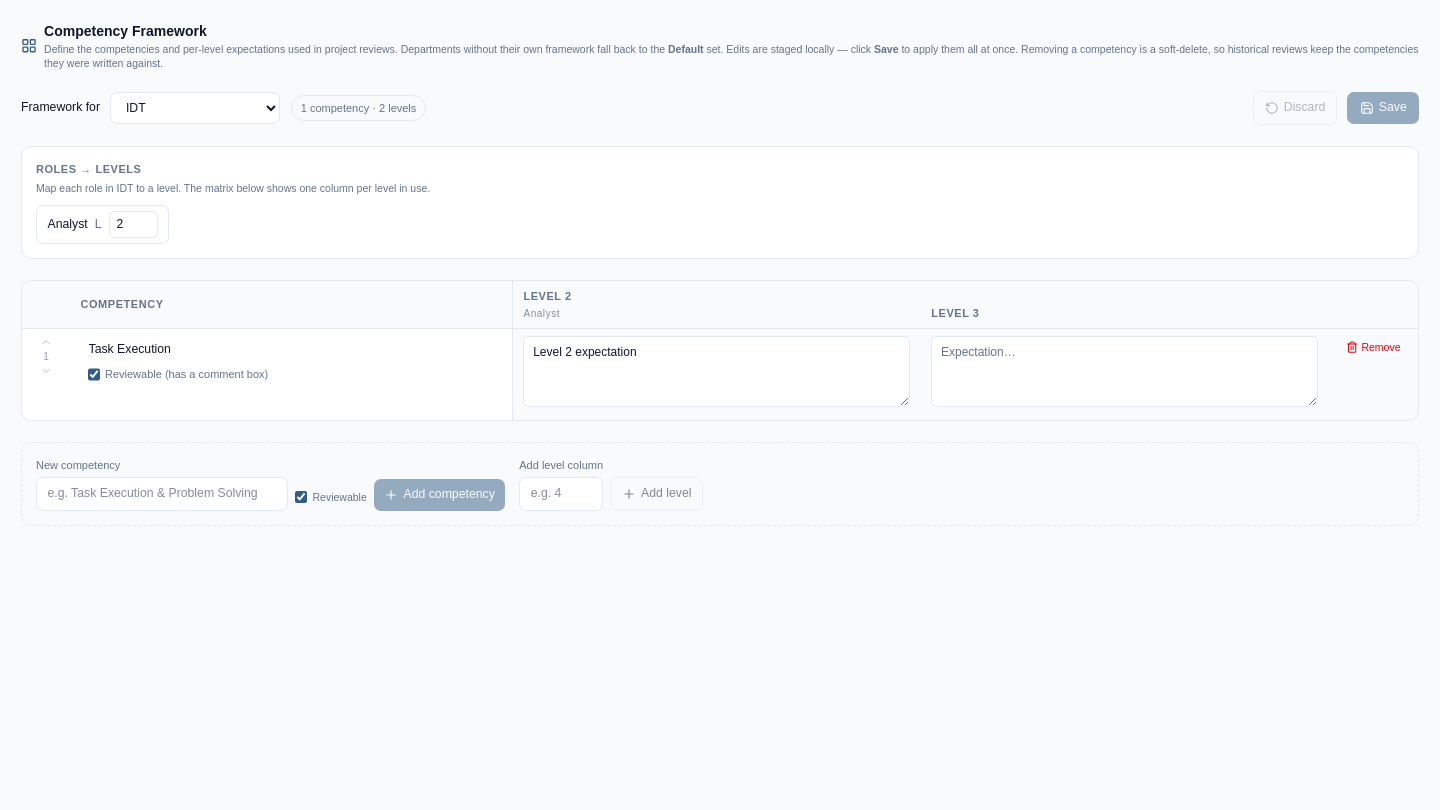
Test: CompetencyFrameworkTab › stages edits locally — nothing saves until Save
Expected: the button "Save" is disabled, [1347, 92, 1419, 124]
# Adding a competency stages it — no API call.
Type "Ownership" into the field with placeholder "e.g. Task Execution & Problem Solving" at (162, 494), box [36, 477, 288, 511]
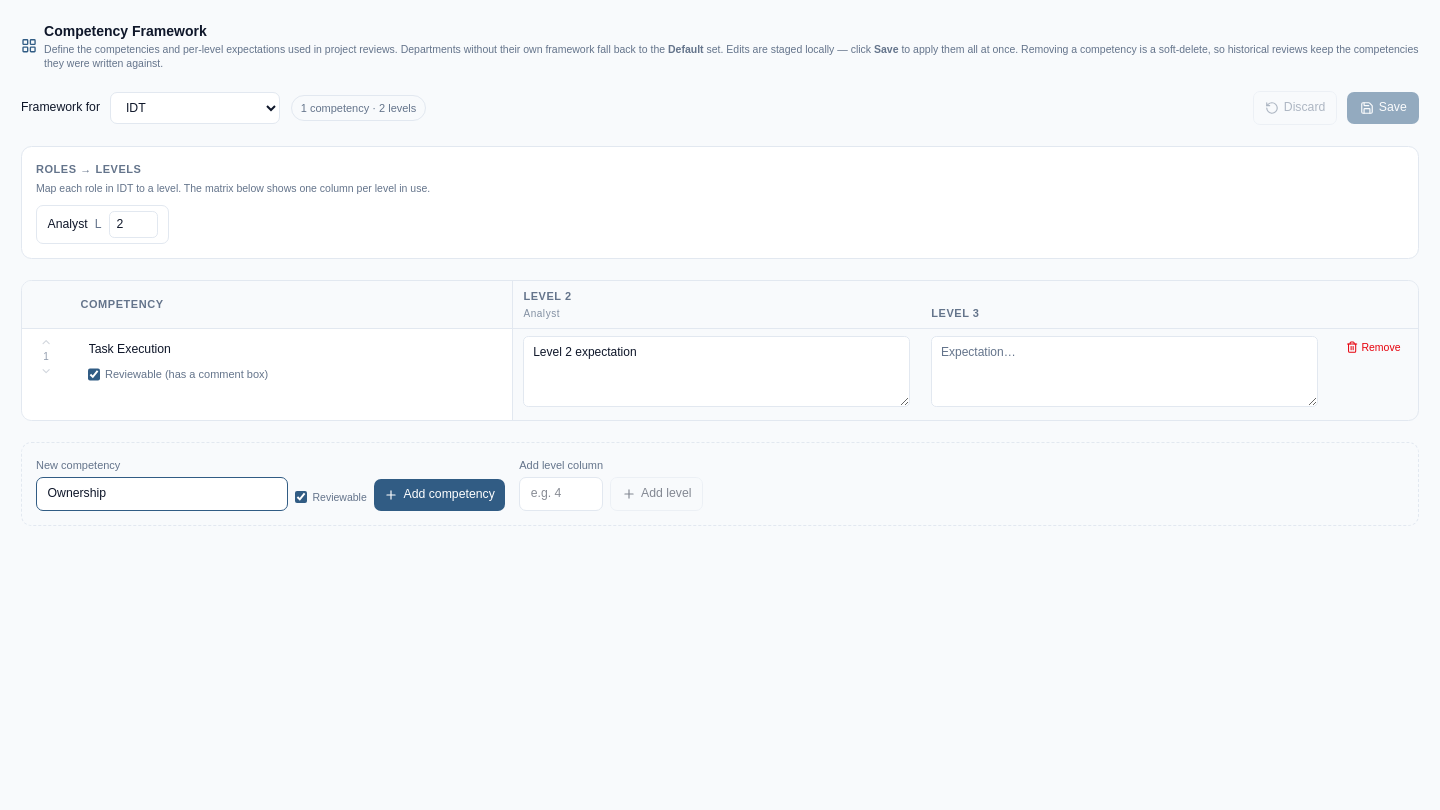
Click the button "Add competency" at (440, 495), box [374, 479, 505, 511]
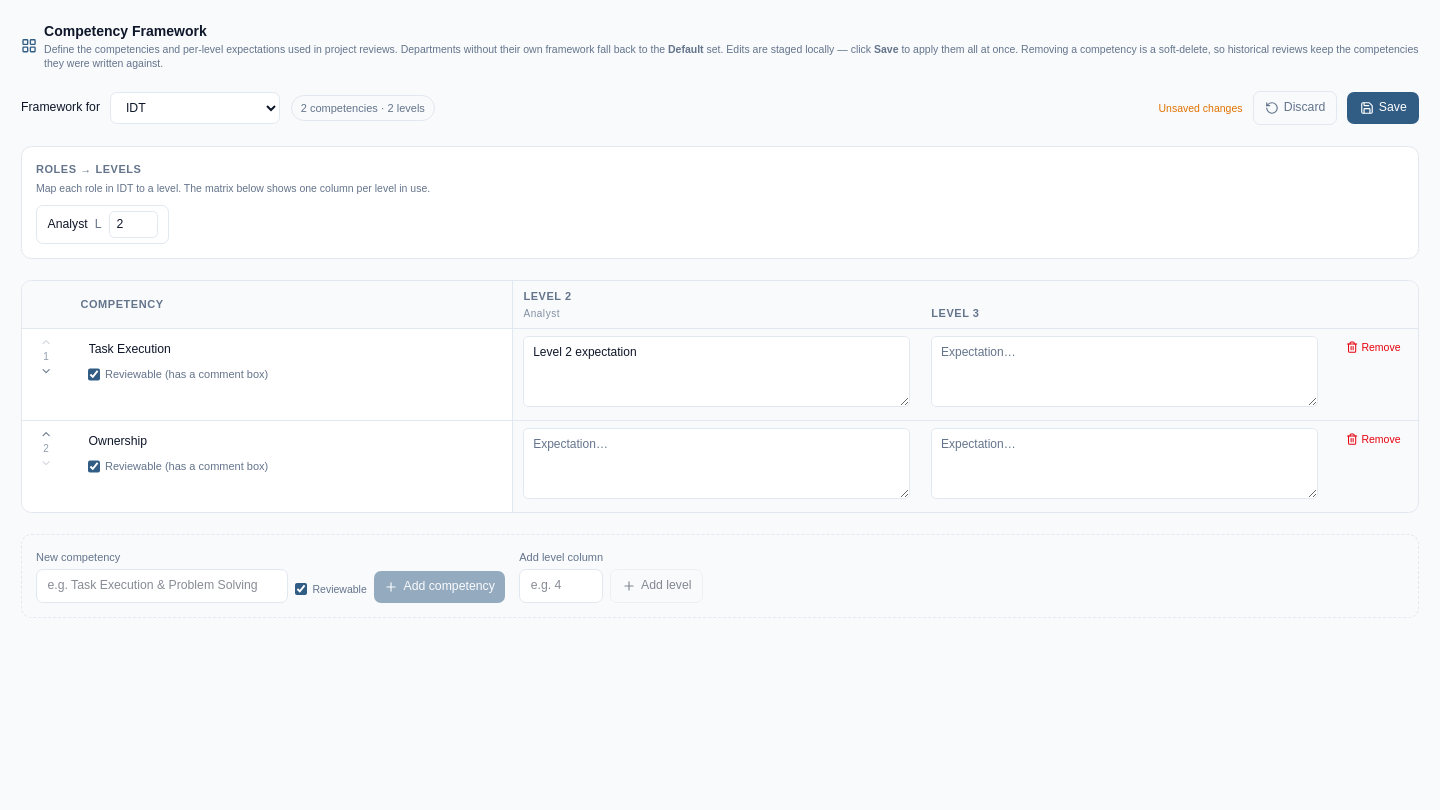
Result: the text "Unsaved changes" is shown at [1158, 101, 1243, 115]
